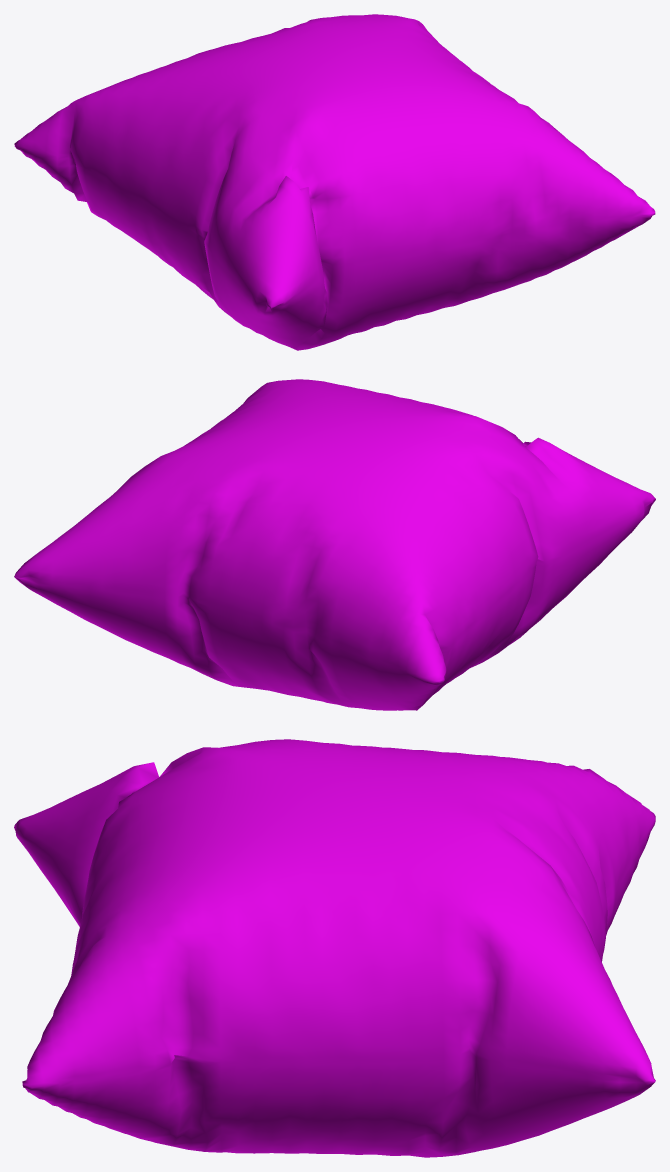
Rendered from Cushion.fbx.
The picture shows the model from 3 angles, top to bottom: view 1: azimuth 30°, elevation 25°; view 2: azimuth 150°, elevation 25°; view 3: azimuth 270°, elevation 25°; orthographic projection. The views are drawn at different scales.
Parts seen in each view (by area): view 1: Cushion; view 2: Cushion; view 3: Cushion.
Part boxes in pixels (x1=…): Cushion: x1=14, y1=14, x2=655, y2=350; Cushion: x1=14, y1=379, x2=655, y2=710; Cushion: x1=14, y1=739, x2=655, y2=1157.
Bounding box in the file's own units: 173 × 94.89 × 170.
